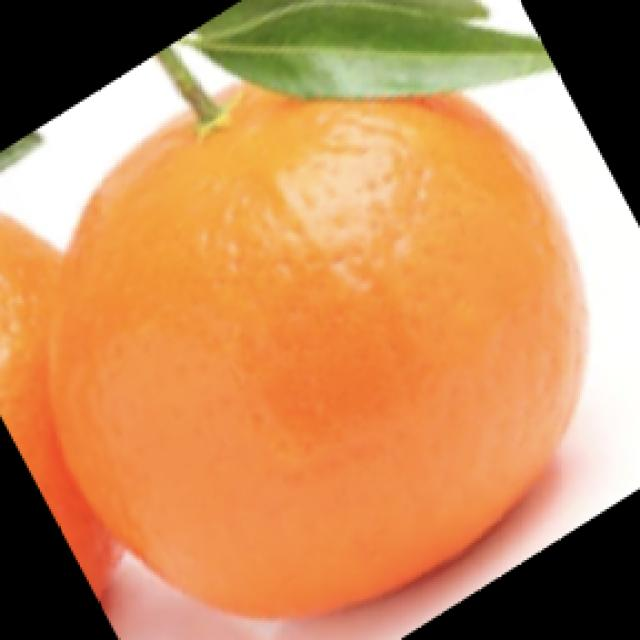fresh: (1, 2, 590, 628)
